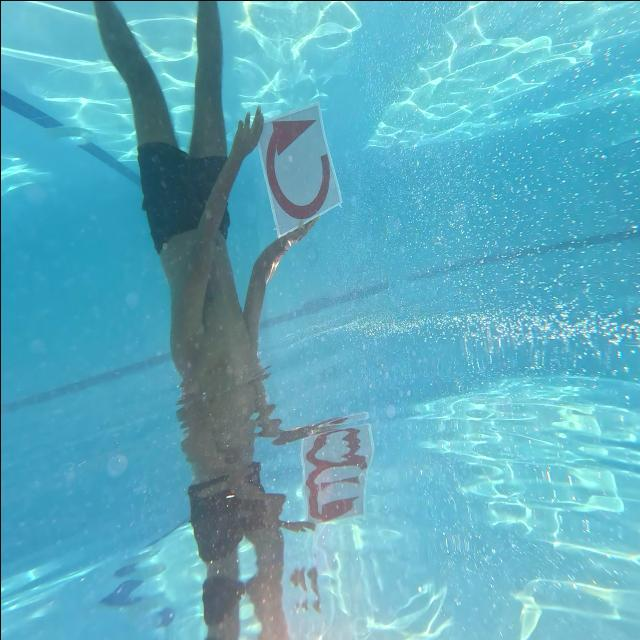red_side: (258, 108, 342, 234)
